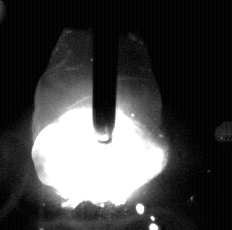arame: (93, 0, 117, 144)
poca: (31, 0, 170, 230)
